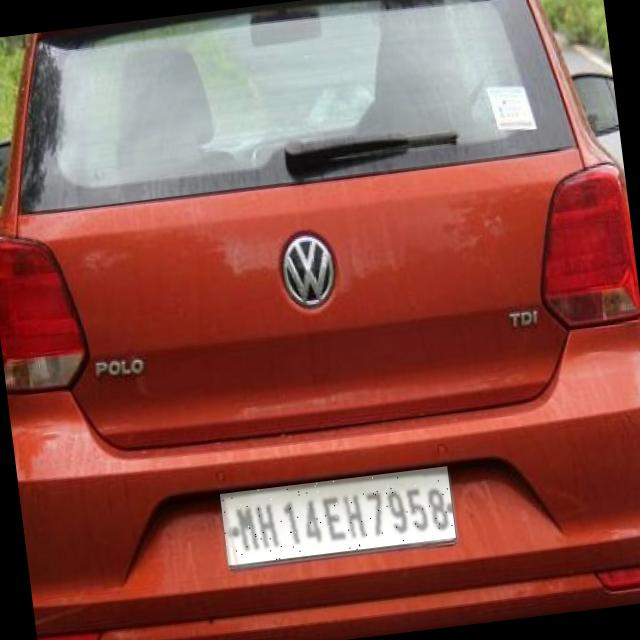Plate: (221, 467, 457, 566)
